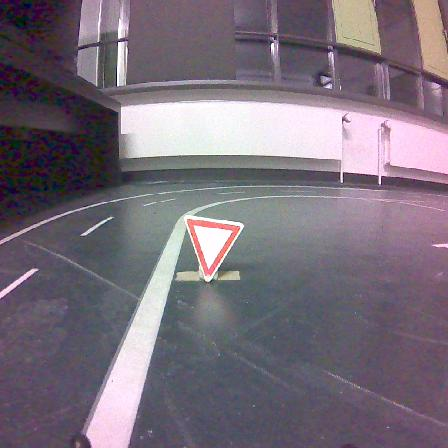GIVE_WAY: (184, 215, 243, 281)
